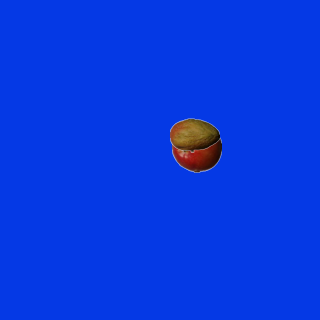Apple Braeburn: (171, 122, 221, 172)
Papaya: (169, 110, 219, 160)
